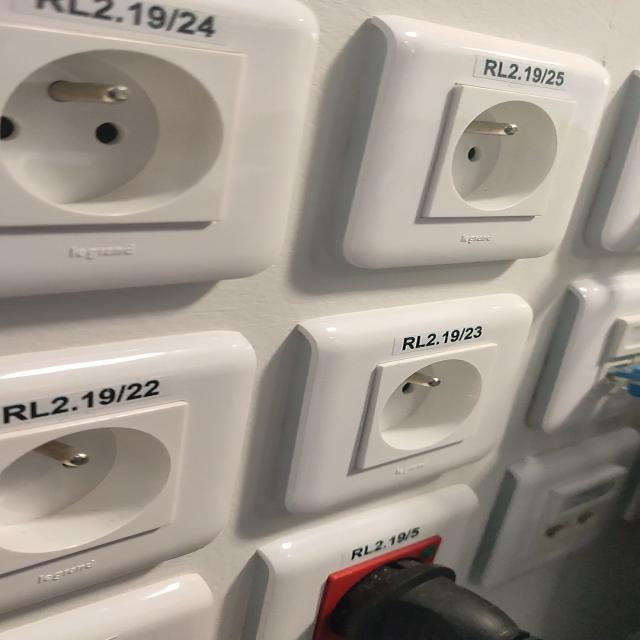house plug: (0, 24, 245, 228), (0, 401, 185, 578), (422, 83, 577, 218), (364, 344, 496, 470)
